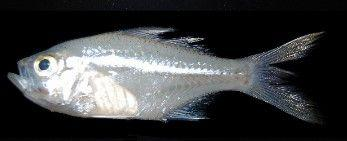Glass Perchlet: (8, 24, 326, 124)
